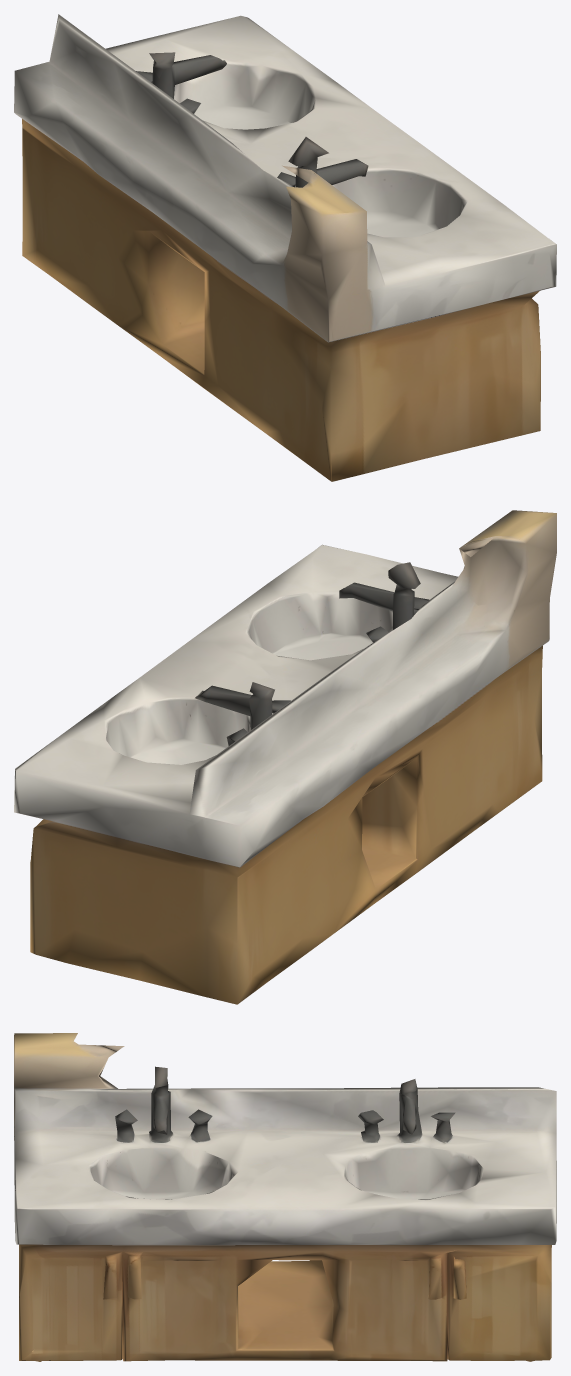
File: vanity.glb
The picture shows the model from 3 angles, top to bottom: view 1: azimuth 30°, elevation 25°; view 2: azimuth 150°, elevation 25°; view 3: azimuth 270°, elevation 25°; orthographic projection. The views are drawn at different scales.
Parts seen in each view (by area): view 1: tripo_node_093d5032-5650-4c02-b60c-7111b835d330; view 2: tripo_node_093d5032-5650-4c02-b60c-7111b835d330; view 3: tripo_node_093d5032-5650-4c02-b60c-7111b835d330.
Boxes of the visible parts, x1,y1,x2,y2 form: tripo_node_093d5032-5650-4c02-b60c-7111b835d330: (14, 14, 556, 481); tripo_node_093d5032-5650-4c02-b60c-7111b835d330: (14, 510, 556, 1004); tripo_node_093d5032-5650-4c02-b60c-7111b835d330: (14, 1033, 556, 1361).
Size of the model in its own units: 0.4354 by 0.4874 by 1.
1 material, 1 textured.
